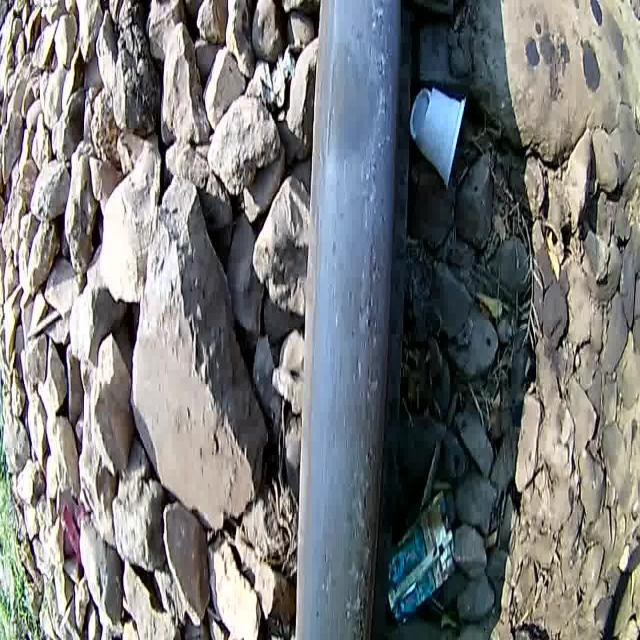Squats: (282, 0, 418, 640)
